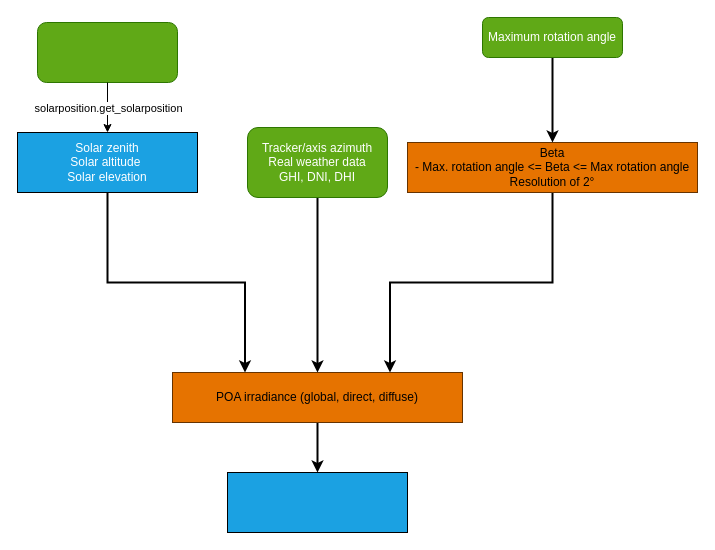
This 715x550 diagram has some shape labels left out. The box of each missing label's shape, as (x1, y1, x2, y2) in pixels:
Optimal rotation angle POA irradiance: (226, 472, 408, 532)
Timeseries Latitude, Longitude, Altitude: (36, 22, 178, 82)
